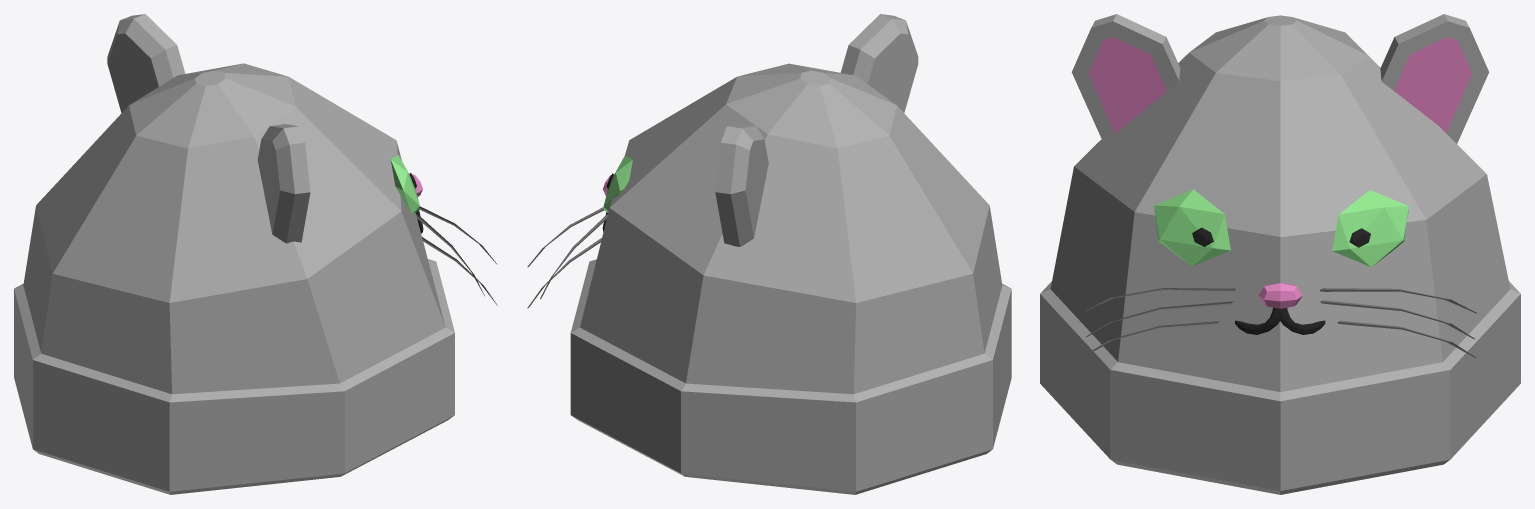
3 views of the same model, side by side, from view 1: azimuth 30°, elevation 25°; view 2: azimuth 150°, elevation 25°; view 3: azimuth 270°, elevation 25° (orthographic). The views are drawn at different scales.
Visible parts, largest first — view 1: Beanie_Cylinder.001; view 2: Beanie_Cylinder.001; view 3: Beanie_Cylinder.001.
Part boxes in pixels (<box>): Beanie_Cylinder.001: <box>14,14,497,494</box>; Beanie_Cylinder.001: <box>527,14,1011,494</box>; Beanie_Cylinder.001: <box>1040,14,1520,494</box>.
Bounding box in the file's own units: 2.12 × 1.7 × 2.
